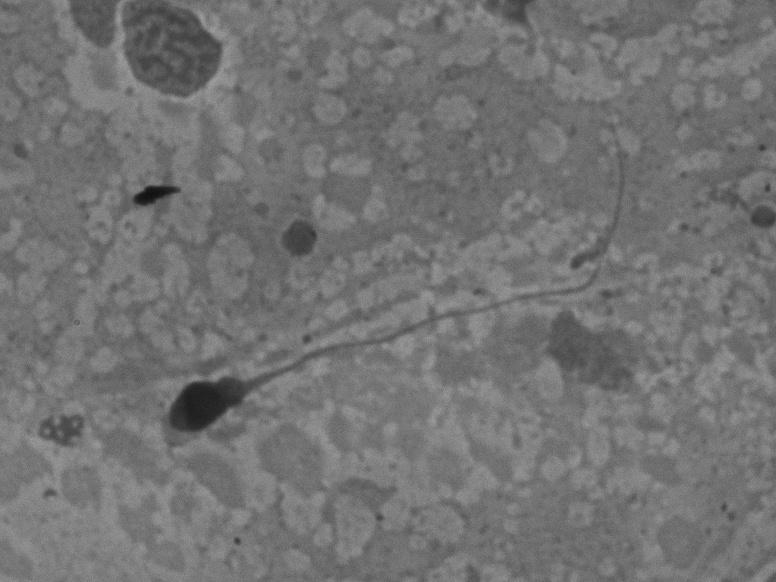Abnormal: (156, 191, 638, 466)
